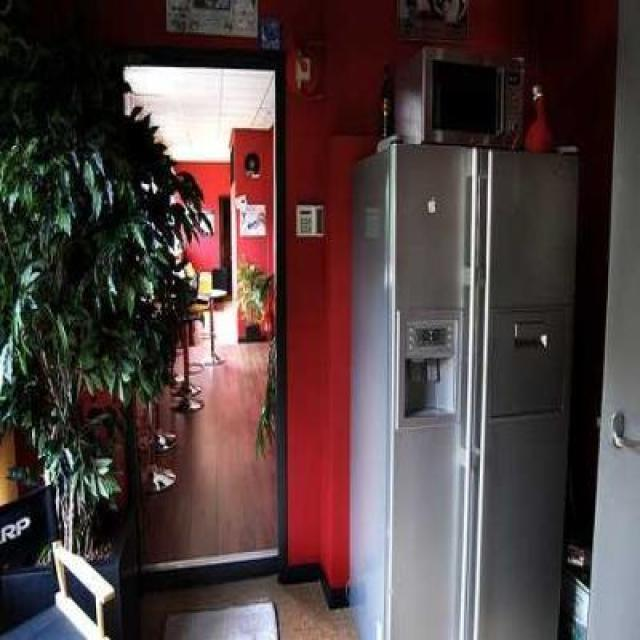refrigerator: (353, 135, 585, 631)
